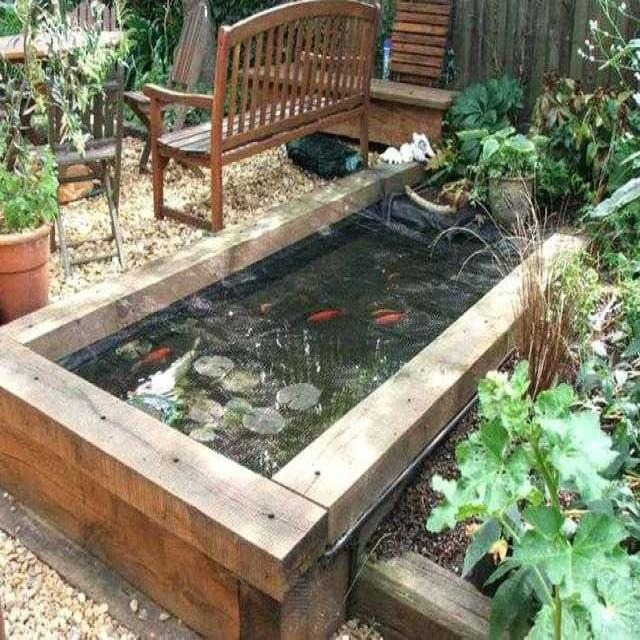Ponds: (1, 165, 604, 562)
